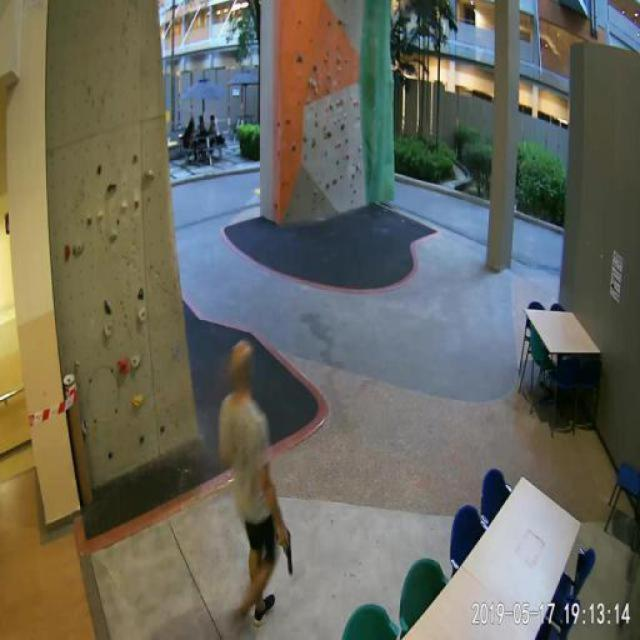pistol: (274, 524, 292, 574)
